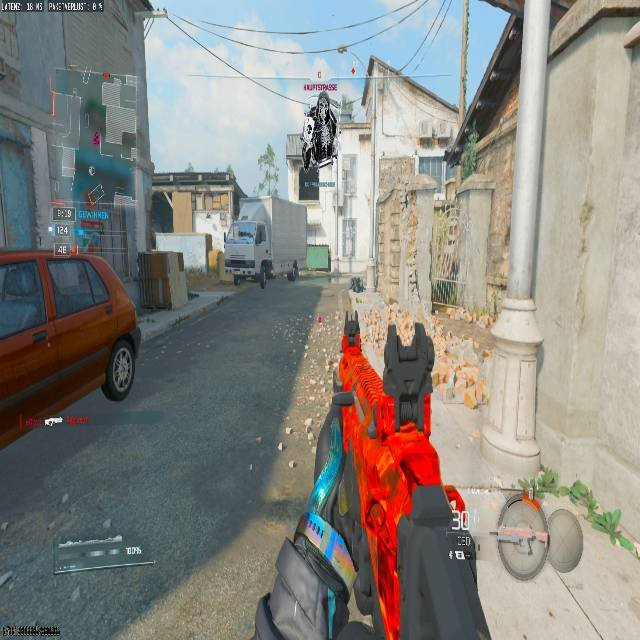player: (301, 93, 339, 173), (261, 257, 273, 289)
